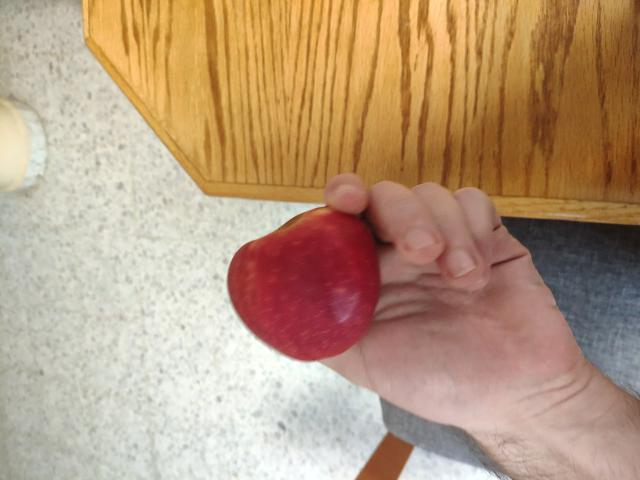apple: (222, 204, 387, 362)
